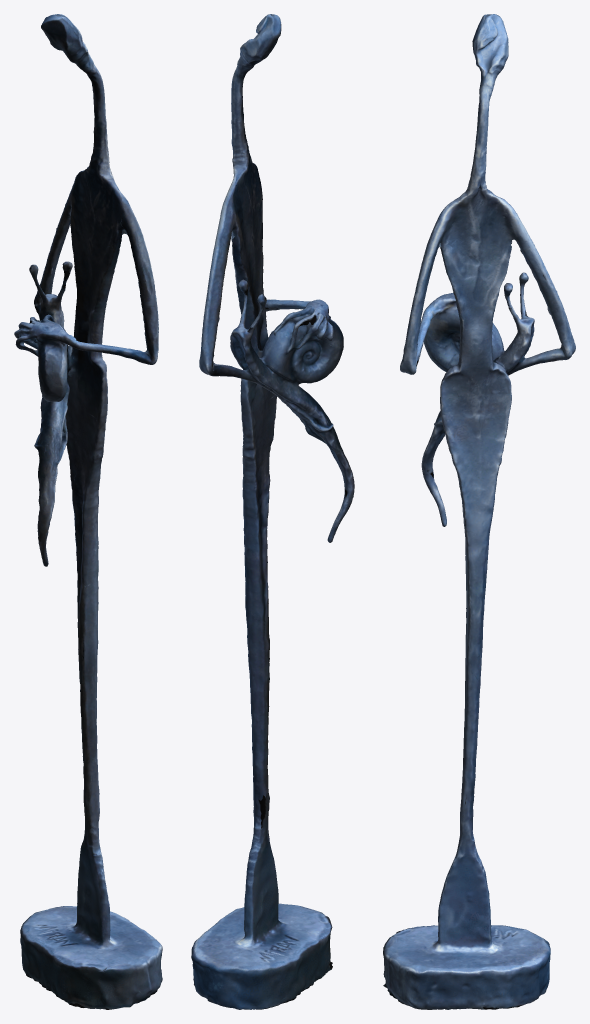
The model's file is petsnail.gltf.
3 views of the same model, side by side, from view 1: azimuth 30°, elevation 25°; view 2: azimuth 150°, elevation 25°; view 3: azimuth 270°, elevation 25° (orthographic).
Visible parts, largest first — view 1: model; view 2: model; view 3: model.
Boxes of the visible parts, box(x1,y1,x2,y2) form: model: box(14, 14, 162, 1009); model: box(191, 14, 354, 1009); model: box(383, 14, 575, 1009).
Size of the model in its own units: 0.2551 by 1.92 by 0.3487.
Materials: 1 (1 with a texture image).
